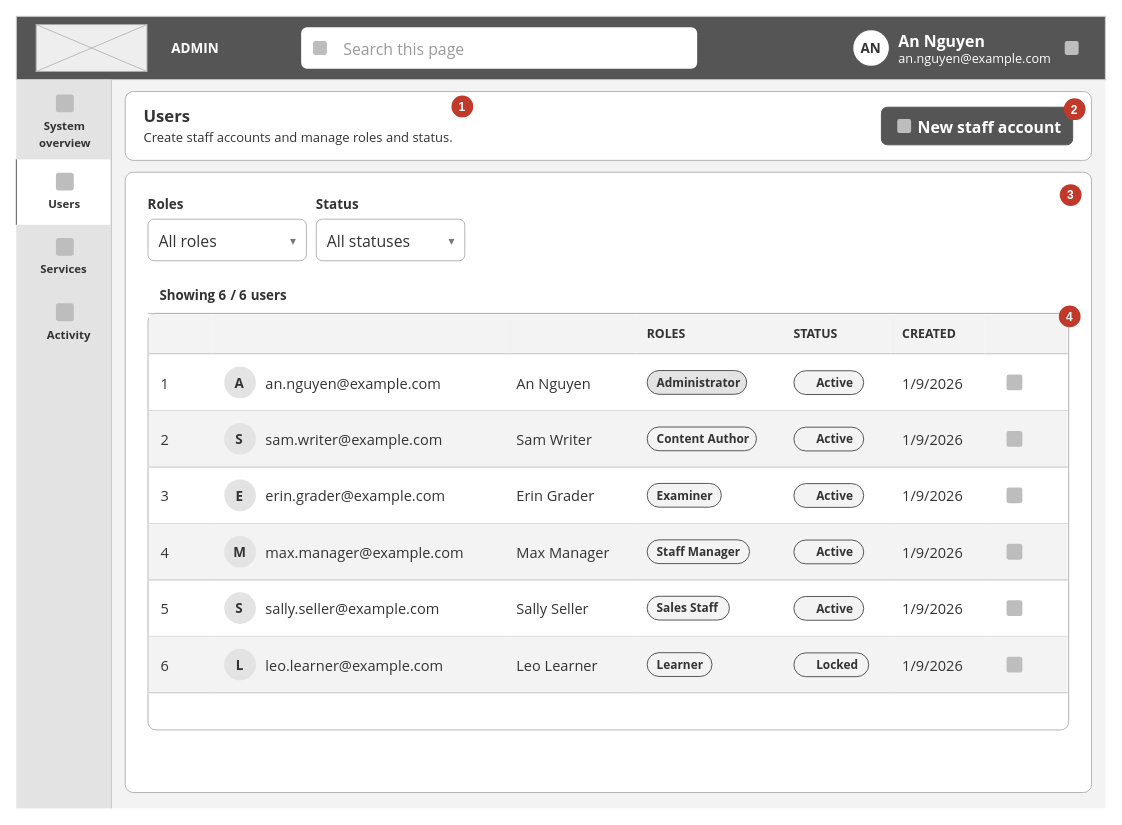
Image size: 1122x825. Some labels were removed from this diagram. Here are the shapes that lost their labels. From the top down, the centre of each, then its label:
At point (180, 333): "NO.".
At point (358, 333): "E-MAIL".
At point (569, 333): "FULL NAME".
At point (1025, 333): "ACTIONS".
